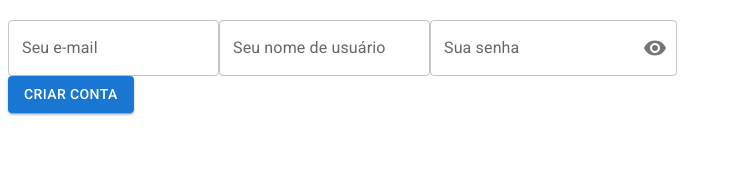
Test: Create Account Form - account validation schema › password › renders inputs error messages when try submit form with password without min length
In the password field labelled "Sua senha": (528, 48) [430,20,627,76], type "1234567"
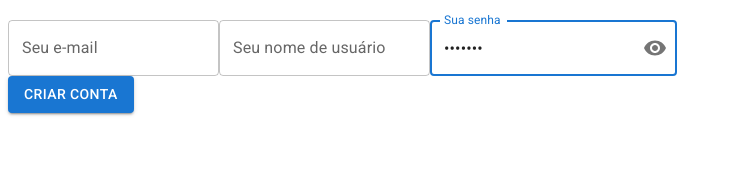
Click the button "Criar conta": (71, 94) [8,76,134,112]
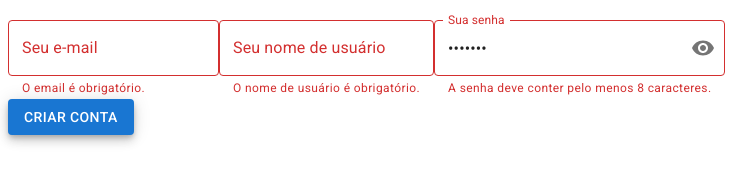
Result: the text "A senha deve conter pelo menos 8 caracteres." is shown at [448,79,711,99]
